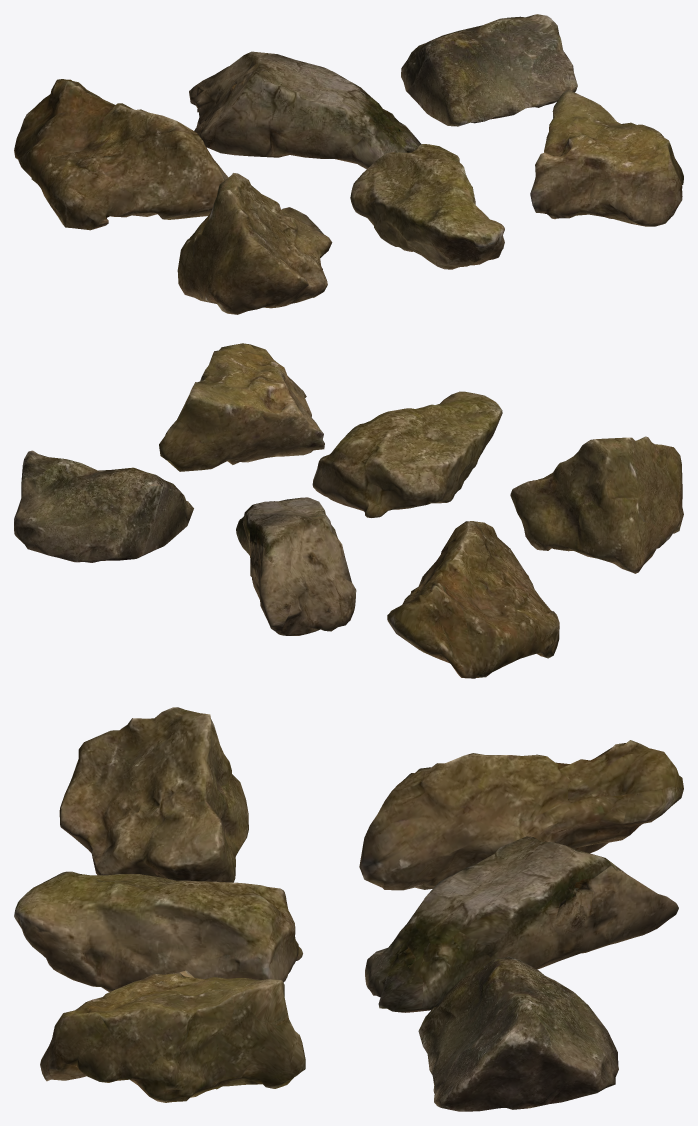
The model's file is rock_moss_set_01.glb.
3 views of the same model, one above another, from view 1: azimuth 30°, elevation 25°; view 2: azimuth 150°, elevation 25°; view 3: azimuth 270°, elevation 25° (orthographic). The views are drawn at different scales.
Parts seen in each view (by area): view 1: rock_moss_set_01_rock01, rock_moss_set_01_rock02, rock_moss_set_01_rock06, rock_moss_set_01_rock04, rock_moss_set_01_rock03, rock_moss_set_01_rock05; view 2: rock_moss_set_01_rock04, rock_moss_set_01_rock01, rock_moss_set_01_rock05, rock_moss_set_01_rock03, rock_moss_set_01_rock06, rock_moss_set_01_rock02; view 3: rock_moss_set_01_rock01, rock_moss_set_01_rock02, rock_moss_set_01_rock05, rock_moss_set_01_rock04, rock_moss_set_01_rock06, rock_moss_set_01_rock03.
Boxes of the visible parts, left/top/right/bottom form: rock_moss_set_01_rock01: left=14, top=79, right=228, bottom=230; rock_moss_set_01_rock02: left=189, top=51, right=421, bottom=169; rock_moss_set_01_rock06: left=530, top=89, right=683, bottom=226; rock_moss_set_01_rock04: left=177, top=173, right=332, bottom=314; rock_moss_set_01_rock03: left=401, top=14, right=577, bottom=126; rock_moss_set_01_rock05: left=350, top=144, right=504, bottom=269; rock_moss_set_01_rock04: left=510, top=436, right=683, bottom=573; rock_moss_set_01_rock01: left=387, top=521, right=559, bottom=678; rock_moss_set_01_rock05: left=312, top=391, right=502, bottom=517; rock_moss_set_01_rock03: left=14, top=450, right=193, bottom=562; rock_moss_set_01_rock06: left=159, top=343, right=324, bottom=471; rock_moss_set_01_rock02: left=236, top=497, right=356, bottom=635; rock_moss_set_01_rock01: left=359, top=740, right=683, bottom=890; rock_moss_set_01_rock02: left=365, top=836, right=678, bottom=1012; rock_moss_set_01_rock05: left=14, top=871, right=302, bottom=991; rock_moss_set_01_rock04: left=59, top=707, right=248, bottom=882; rock_moss_set_01_rock06: left=40, top=970, right=305, bottom=1102; rock_moss_set_01_rock03: left=418, top=956, right=618, bottom=1111.
Bounding box in the file's own units: 8 × 1.76 × 6.94.
1 material, 1 textured.
